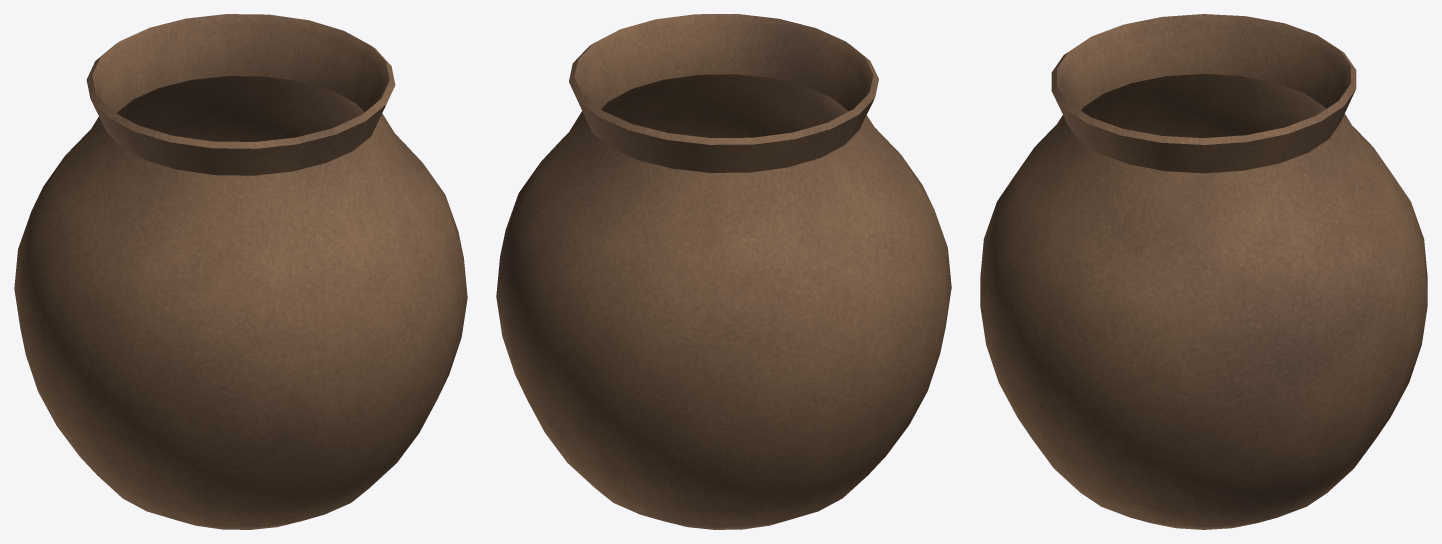
3 renders of one model, left to right at view 1: azimuth 30°, elevation 25°; view 2: azimuth 150°, elevation 25°; view 3: azimuth 270°, elevation 25°, orthographic.
Visible parts, largest first — view 1: POT_001; view 2: POT_001; view 3: POT_001.
Boxes of the visible parts, x1,y1,x2,y2 form: POT_001: [14, 14, 467, 529]; POT_001: [496, 14, 951, 529]; POT_001: [980, 14, 1427, 529].
Bounding box in the file's own units: 0.46 × 0.46 × 0.4509.
Materials: 1 (1 with a texture image).
